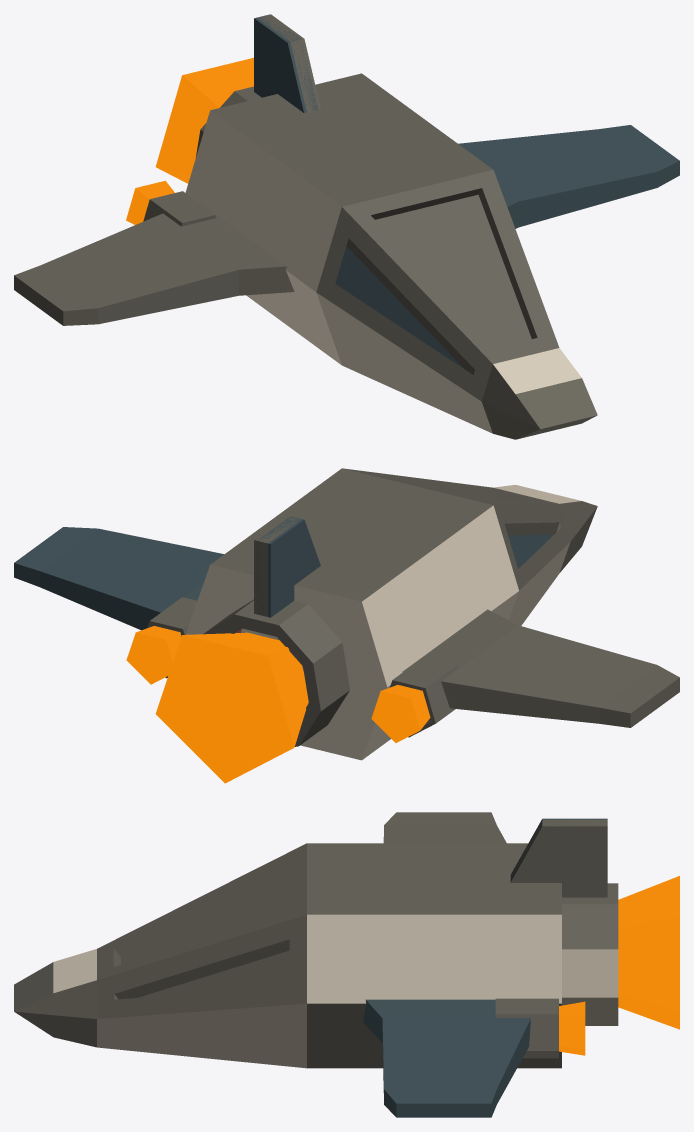
Rendered from vaisseau.glb.
3 views of the same model, one above another, from view 1: azimuth 30°, elevation 25°; view 2: azimuth 150°, elevation 25°; view 3: azimuth 270°, elevation 25° (orthographic). The views are drawn at different scales.
Parts seen in each view (by area): view 1: Cube, BigTrail, SmallTrail2; view 2: Cube, BigTrail, SmallTrail2, SmallTrail1; view 3: Cube, BigTrail, SmallTrail1.
Boxes of the visible parts, x1,y1,x2,y2 form: Cube: [14, 14, 679, 439]; BigTrail: [155, 57, 253, 183]; SmallTrail2: [126, 180, 174, 224]; Cube: [14, 468, 679, 760]; BigTrail: [155, 632, 308, 783]; SmallTrail2: [371, 685, 430, 742]; SmallTrail1: [126, 626, 181, 684]; Cube: [14, 812, 618, 1117]; BigTrail: [618, 876, 679, 1029]; SmallTrail1: [559, 1001, 585, 1055].
Bounding box in the file's own units: 8.13 × 2.74 × 7.86.
Materials: 2 (1 with a texture image).
